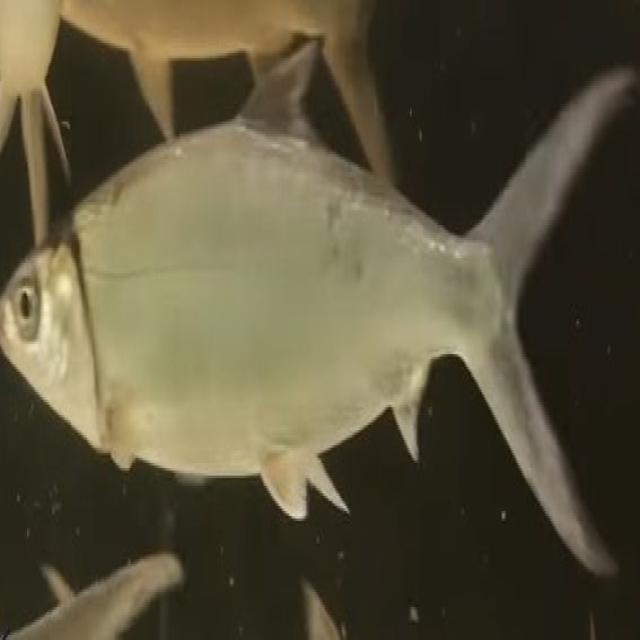Bangus: (0, 61, 640, 612)
